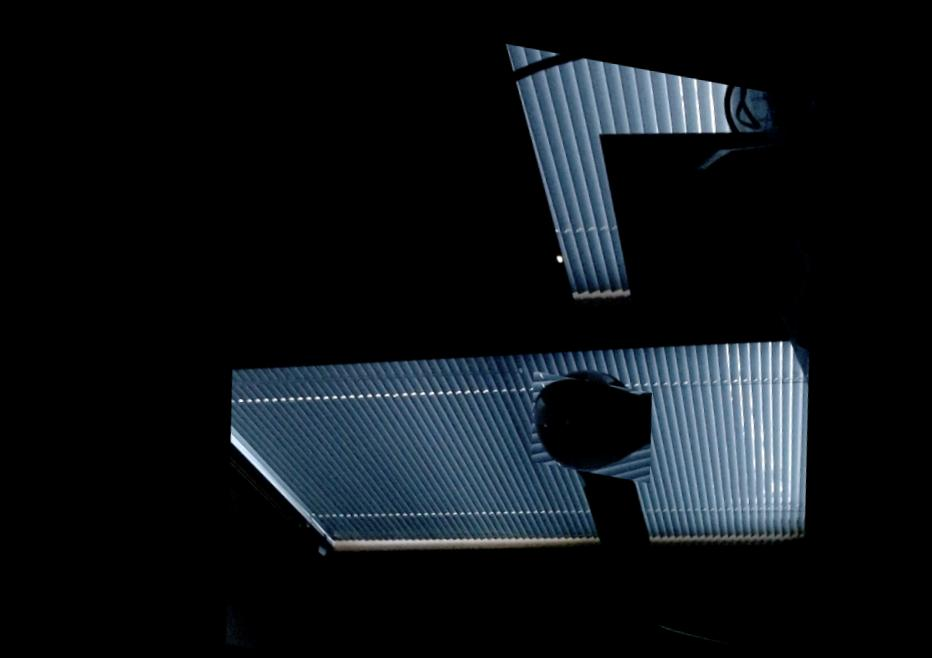Fan: (523, 354, 647, 478)
